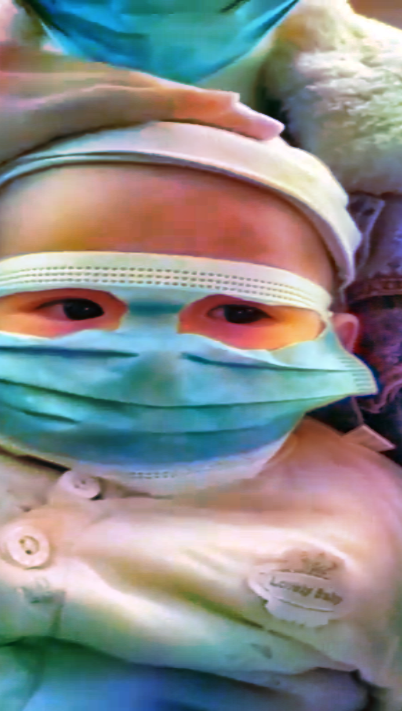mask_weared_incorrect: (1, 134, 372, 475)
